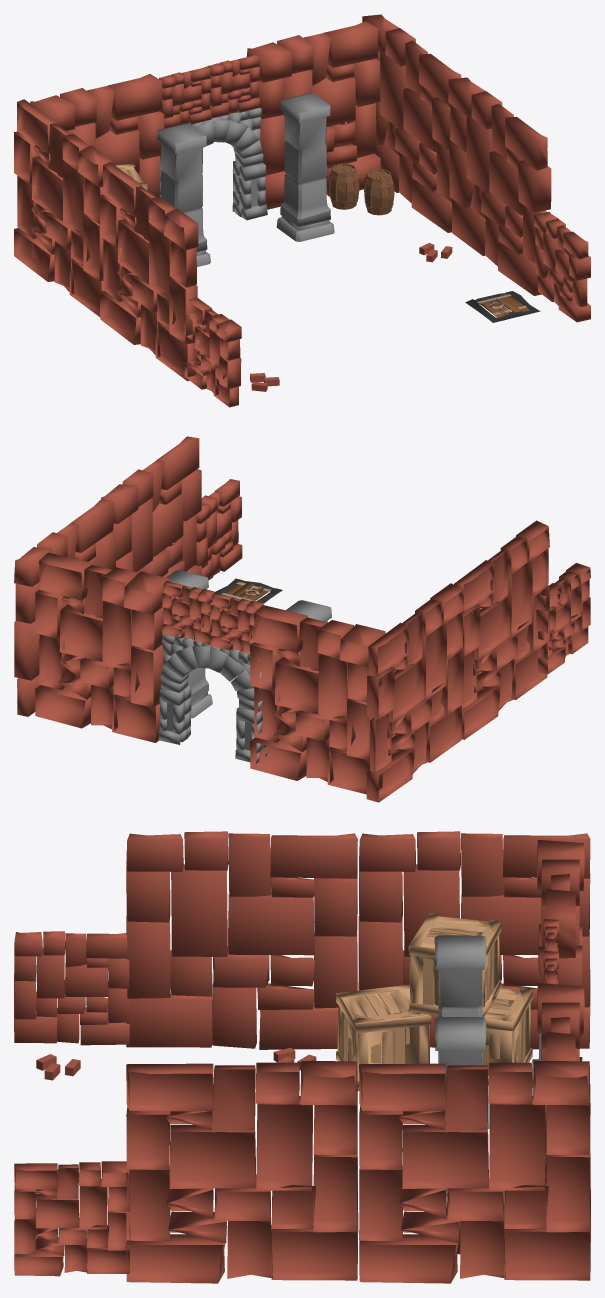
Rendered from dun1ott.glb.
3 views of the same model, one above another, from view 1: azimuth 30°, elevation 25°; view 2: azimuth 150°, elevation 25°; view 3: azimuth 270°, elevation 25° (orthographic). The views are drawn at different scales.
Parts seen in each view (by area): view 1: Wall_Modular_Cube.005, Wall_Modular_Cube.004, Wall_Modular_Cube.007, Column, Wall_Modular_Cube.006, Wall_Modular_Cube.008, Barrel, Trapdoor; view 2: Wall_Modular_Cube.004, Wall_Modular_Cube.005, Wall_Modular_Cube.007, Column, Wall_Modular_Cube.006, Wall_Modular_Cube.008, Trapdoor; view 3: Wall_Modular_Cube.005, Wall_Modular_Cube.006, Wall_Modular_Cube.007, Crate, Wall_Modular_Cube.008, Wall_Modular_Cube.004, Column, Cube.001.
Boxes of the visible parts, left/top/right/bottom form: Wall_Modular_Cube.005: left=14, top=99, right=241, bottom=407; Wall_Modular_Cube.004: left=29, top=21, right=380, bottom=264; Wall_Modular_Cube.007: left=448, top=77, right=551, bottom=295; Column: left=157, top=93, right=334, bottom=266; Wall_Modular_Cube.006: left=362, top=14, right=461, bottom=232; Wall_Modular_Cube.008: left=534, top=212, right=590, bottom=322; Barrel: left=329, top=163, right=394, bottom=215; Trapdoor: left=465, top=291, right=540, bottom=322; Wall_Modular_Cube.004: left=35, top=552, right=385, bottom=794; Wall_Modular_Cube.005: left=366, top=520, right=590, bottom=802; Wall_Modular_Cube.007: left=101, top=436, right=201, bottom=577; Column: left=158, top=570, right=331, bottom=763; Wall_Modular_Cube.006: left=14, top=499, right=115, bottom=716; Wall_Modular_Cube.008: left=195, top=479, right=242, bottom=580; Trapdoor: left=215, top=578, right=282, bottom=603; Wall_Modular_Cube.005: left=14, top=831, right=590, bottom=1049; Wall_Modular_Cube.006: left=359, top=1061, right=590, bottom=1283; Wall_Modular_Cube.007: left=126, top=1061, right=358, bottom=1283; Crate: left=335, top=913, right=532, bottom=1090; Wall_Modular_Cube.008: left=14, top=1161, right=130, bottom=1276; Wall_Modular_Cube.004: left=537, top=840, right=584, bottom=1185; Column: left=434, top=935, right=541, bottom=1205; Cube.001: left=36, top=1054, right=80, bottom=1080.
Bounding box in the file's own units: 25.61 × 10.44 × 25.78.
